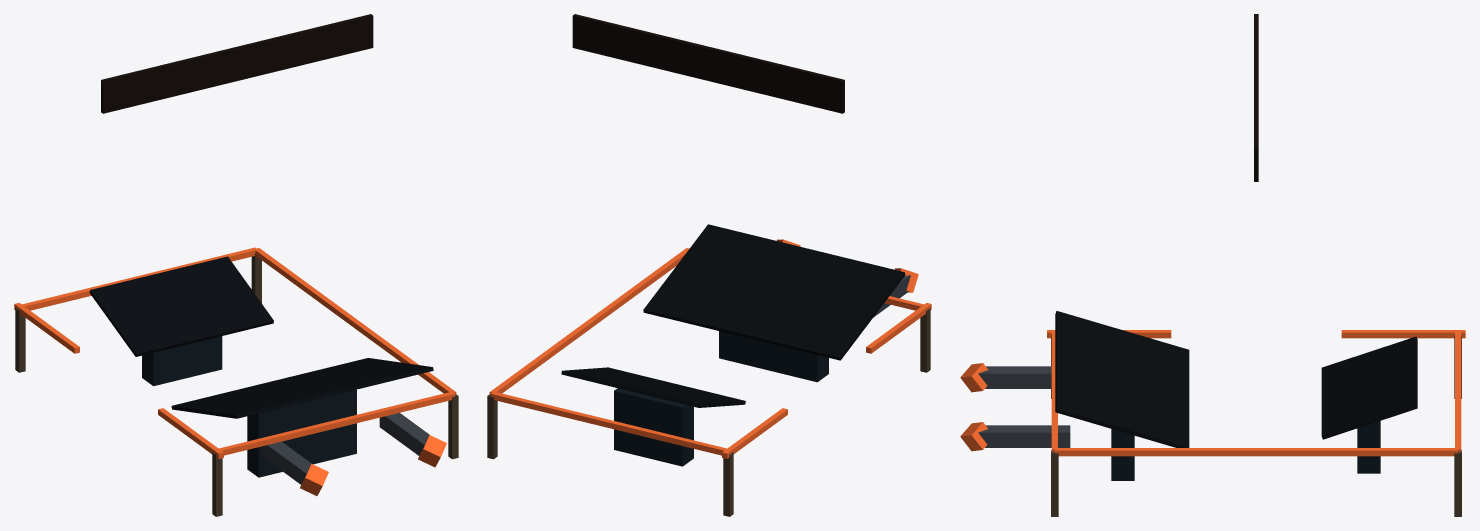
File: skyfleet_bake_09.glb
The picture shows the model from 3 angles, left to right: view 1: azimuth 30°, elevation 25°; view 2: azimuth 150°, elevation 25°; view 3: azimuth 270°, elevation 25°; orthographic projection. The views are drawn at different scales.
Visible parts, largest first — view 1: baked; view 2: baked; view 3: baked.
Boxes of the visible parts, x1,y1,x2,y2 form: baked: (14, 14, 458, 516); baked: (487, 14, 931, 516); baked: (960, 14, 1465, 516).
Bounding box in the file's own units: 4.12 × 5.34 × 6.52.
